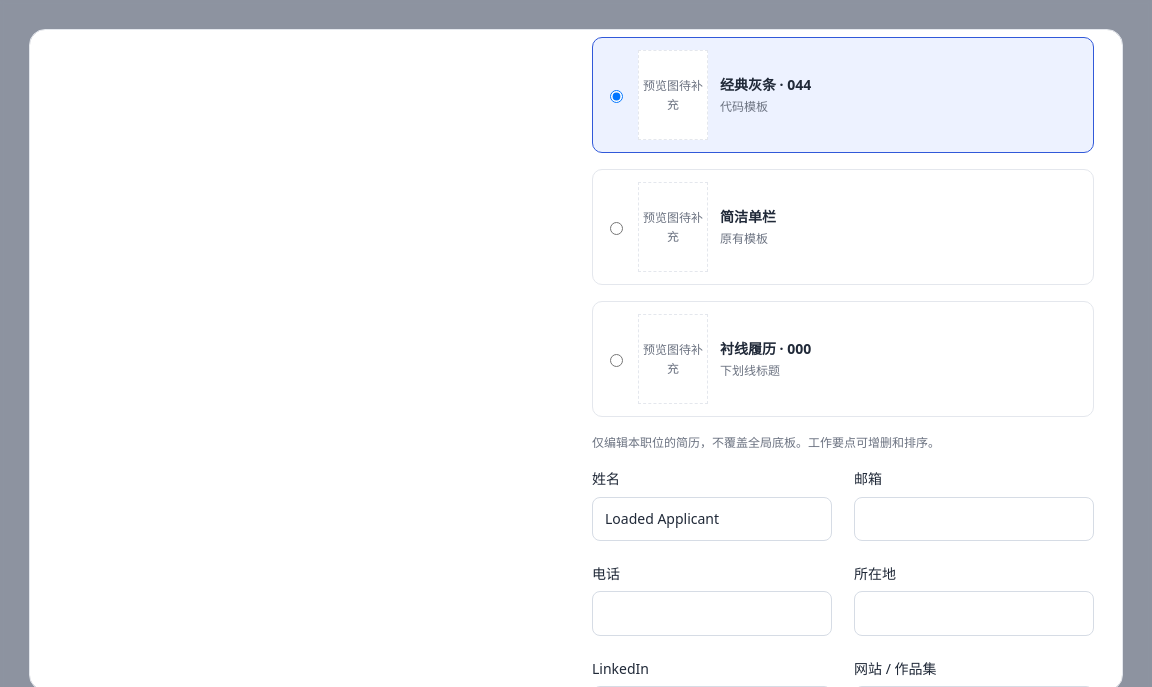
Scenario: job editor and PDF templates › renders the added 000 template from the catalog and submits that choice without changing the default
(page scrolled)
Expected: the radio button labelled "预览图待补充 经典灰条 · 044 代码模板" is checked, [610,90,623,103]
Expected: the number of labels with class "template-option" is 3, [592,37,1094,153]; [592,169,1094,285]; [592,301,1094,417]
Click the radio button labelled "预览图待补充 衬线履历 · 000 下划线标题" at (616, 360), box [610,354,623,367]
(page scrolled)
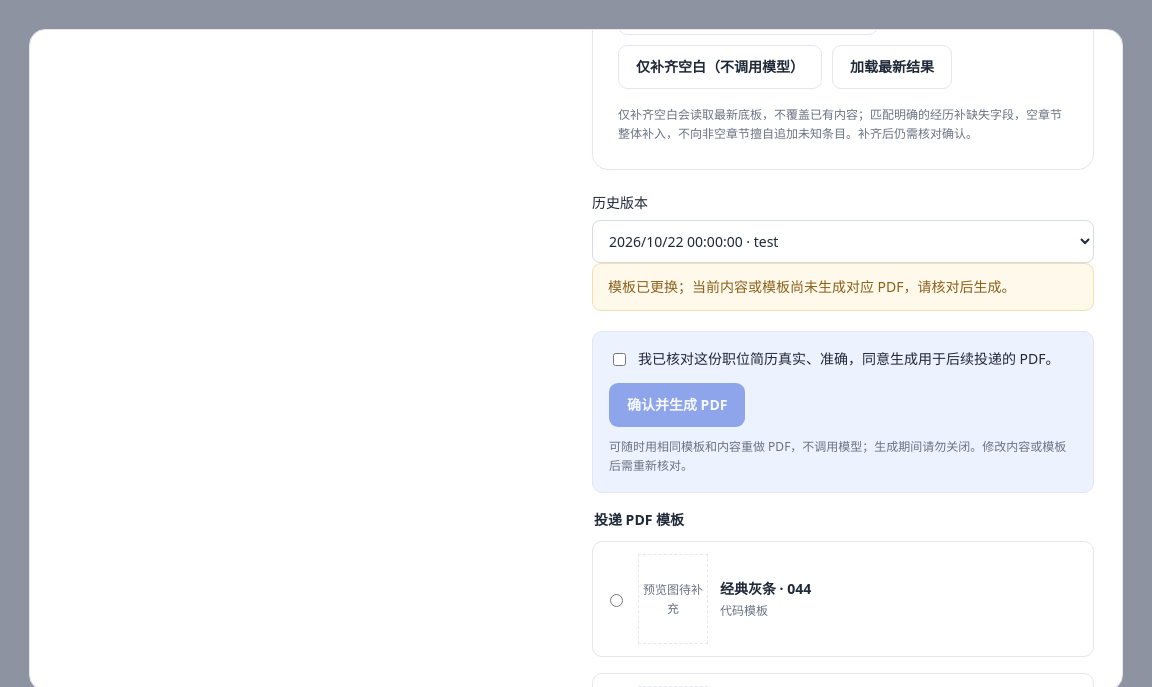
Click the checkbox labelled "我已核对这份职位简历真实、准确，同意生成用于后续投递的 PDF。" at (620, 360), box [613,353,626,366]
(page scrolled)
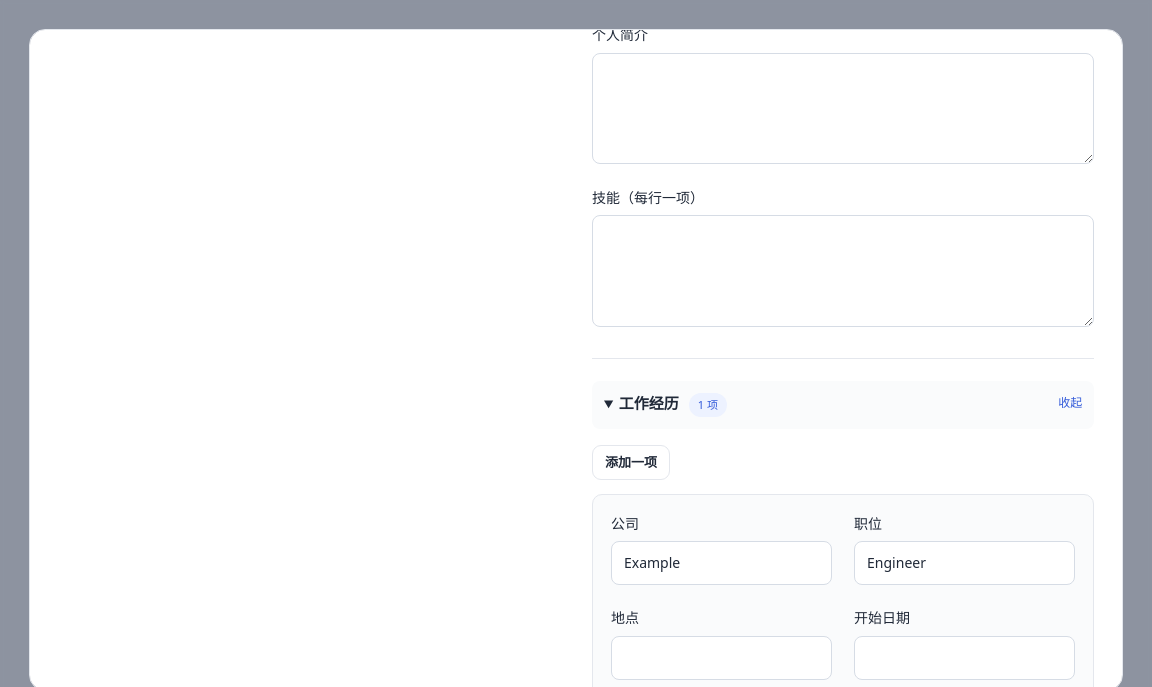
Submit the form
(page scrolled)
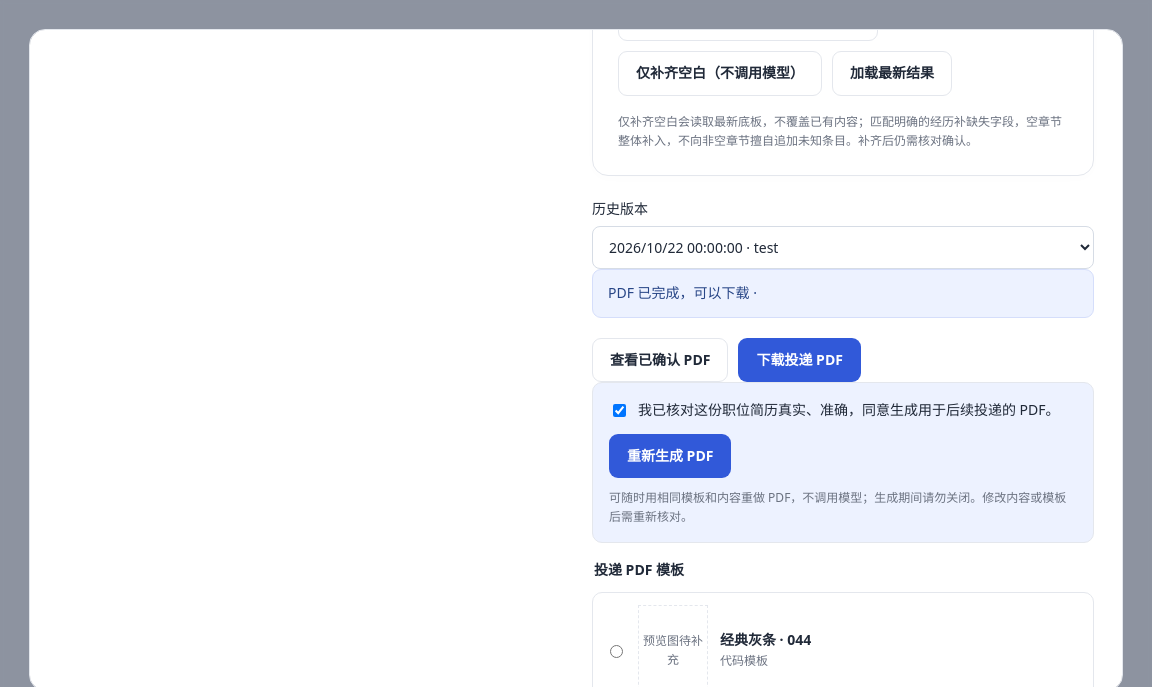
Expected: the link "下载投递 PDF" is shown, [738,338,861,382]
